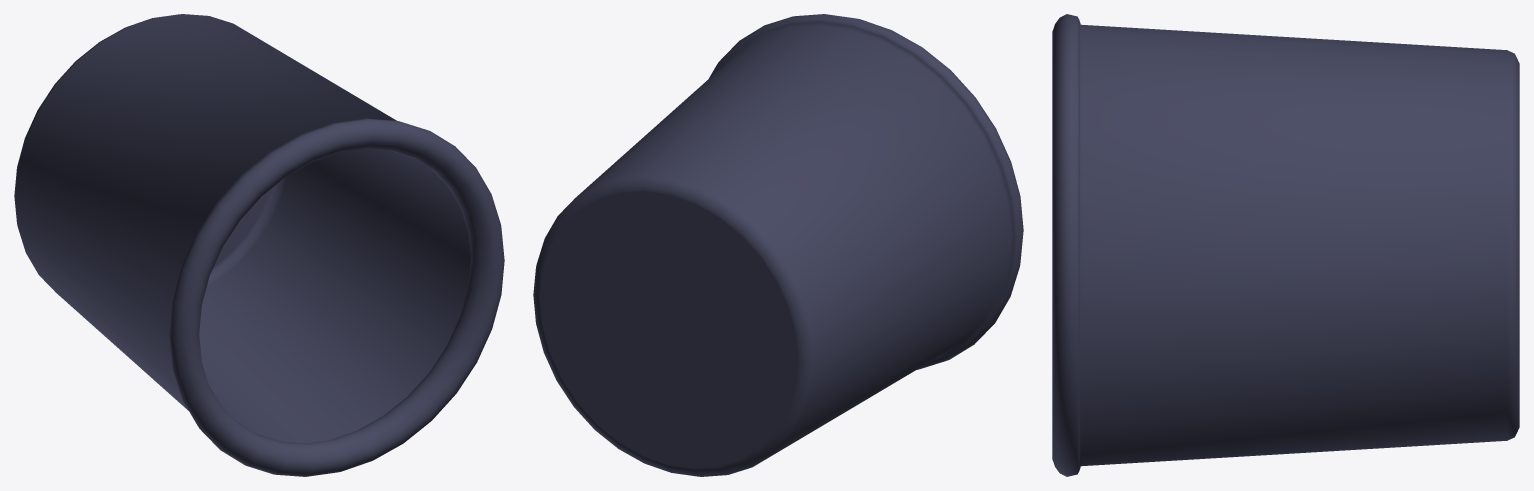
Rendered from CupHolder.fbx.
3 renders of one model, left to right at view 1: azimuth 30°, elevation 25°; view 2: azimuth 150°, elevation 25°; view 3: azimuth 270°, elevation 25°, orthographic. The views are drawn at different scales.
Parts seen in each view (by area): view 1: CupHolder; view 2: CupHolder; view 3: CupHolder.
Boxes of the visible parts, x1,y1,x2,y2 form: CupHolder: (14, 14, 504, 476); CupHolder: (533, 14, 1023, 476); CupHolder: (1052, 14, 1519, 476).
Size of the model in its own units: 7402 by 7402 by 7468.
Materials: 1 (1 with a texture image).
